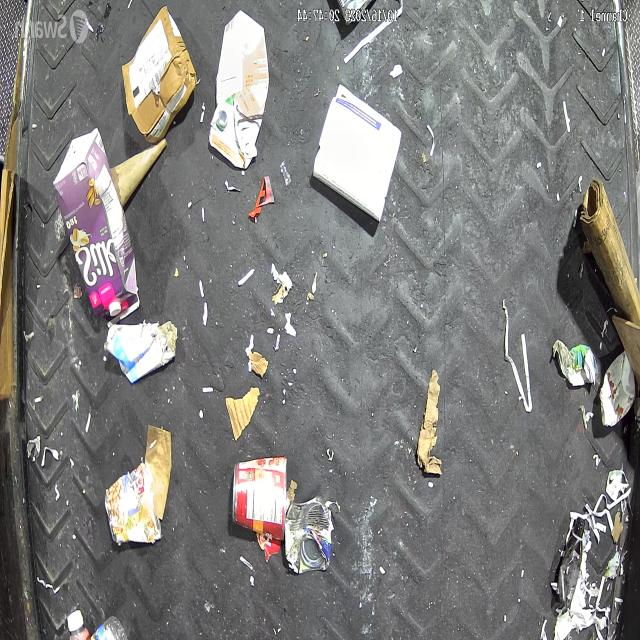can: (231, 454, 288, 540), (104, 461, 162, 544), (284, 494, 334, 575), (600, 349, 637, 432)
non_white_jug: (52, 126, 140, 330), (208, 7, 268, 168)
